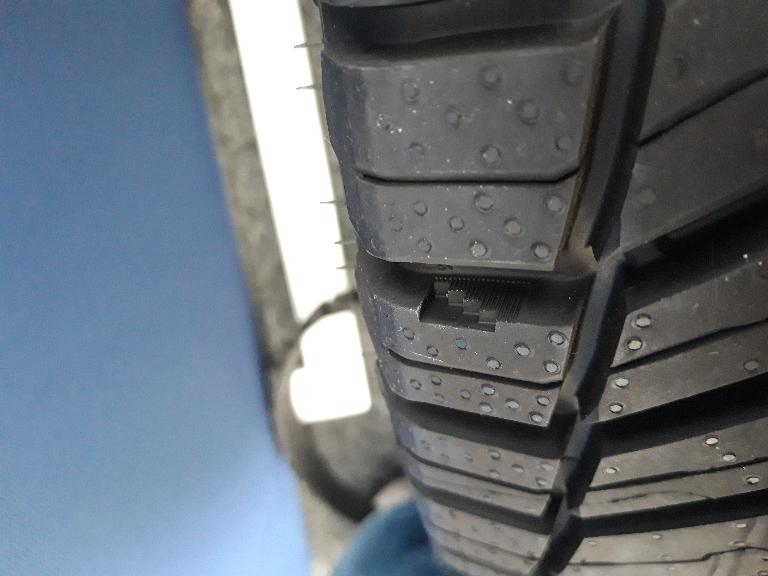temoin:100: (416, 274, 523, 335)
